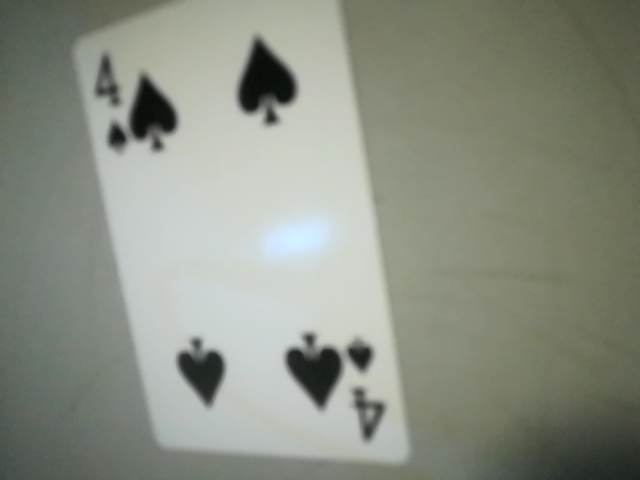ht 4: (330, 320, 402, 463)
